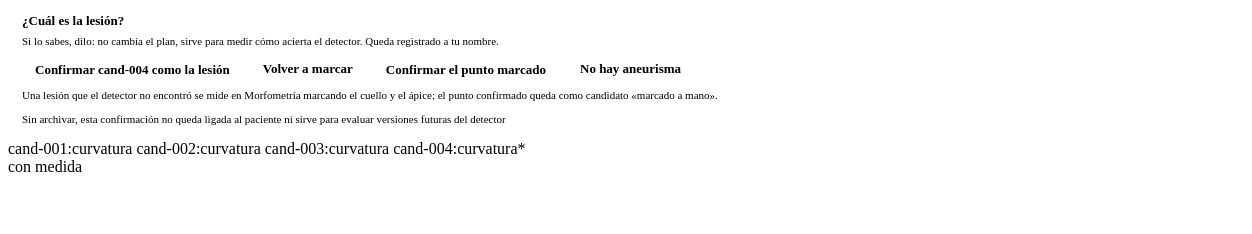
Scenario: confirmar el punto marcado › con el primer descartado elegido y medido, el marcado a mano no hereda su medida
Check: the text with test id "medida" reads "con medida", box [8, 158, 82, 174]
Click the button "Confirmar el punto marcado" at (466, 70), box [373, 60, 559, 78]
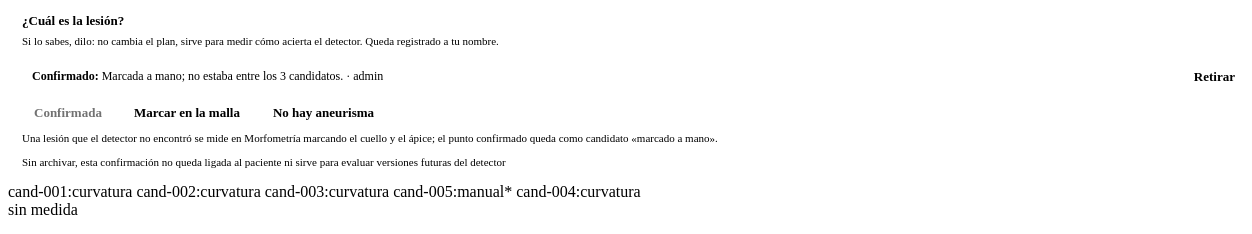
Check: the text with test id "lista" shows "cand-005:manual*", box [8, 182, 641, 200]
Check: the text with test id "medida" reads "sin medida", box [8, 200, 78, 218]
